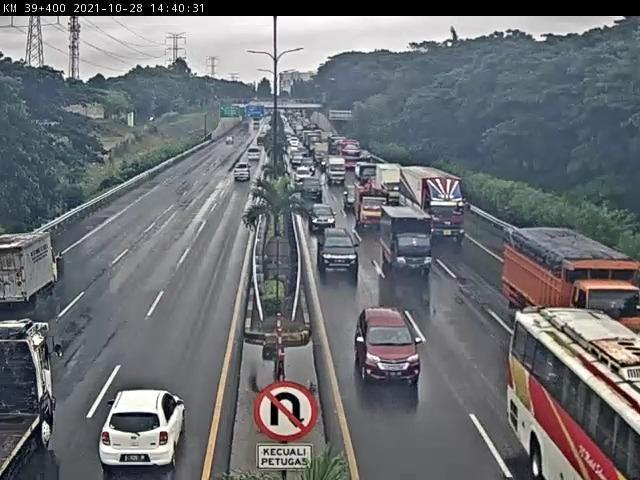bus: (512, 311, 640, 480)
car: (102, 392, 189, 467), (356, 309, 418, 381), (317, 223, 357, 269), (307, 197, 336, 230), (298, 178, 321, 202)
truck: (503, 227, 636, 336), (395, 165, 461, 238), (1, 232, 59, 306), (381, 206, 430, 270), (355, 189, 387, 229), (377, 160, 403, 207)
